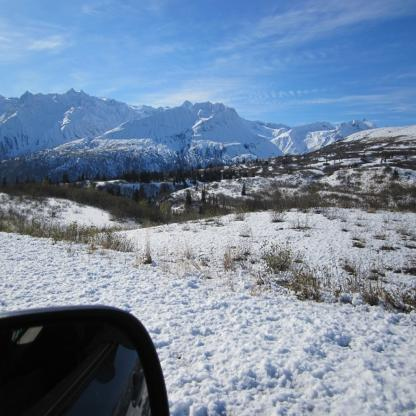Car: (2, 288, 180, 416)
